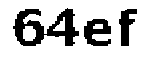4: (46, 5, 80, 51)
6: (8, 6, 45, 50)
e: (81, 15, 114, 51)
f: (115, 6, 145, 50)
